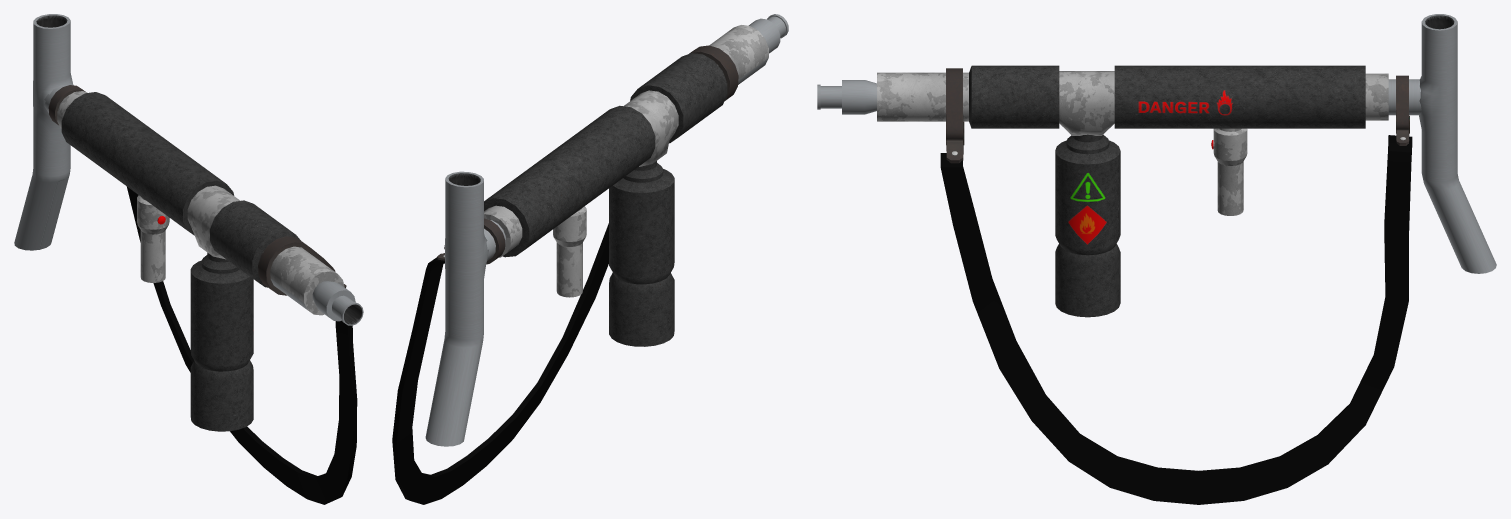
File: homemade_flamethrower.glb
3 renders of one model, left to right at view 1: azimuth 30°, elevation 25°; view 2: azimuth 150°, elevation 25°; view 3: azimuth 270°, elevation 25°, orthographic. The views are drawn at different scales.
Parts seen in each view (by area): view 1: Object_2; view 2: Object_2; view 3: Object_2.
Boxes of the visible parts, x1,y1,x2,y2 form: Object_2: (14,14,363,504); Object_2: (392,14,788,504); Object_2: (817,14,1496,504).
Bounding box in the file's own units: 0.4263 × 1.11 × 1.62.
Materials: 1 (1 with a texture image).
